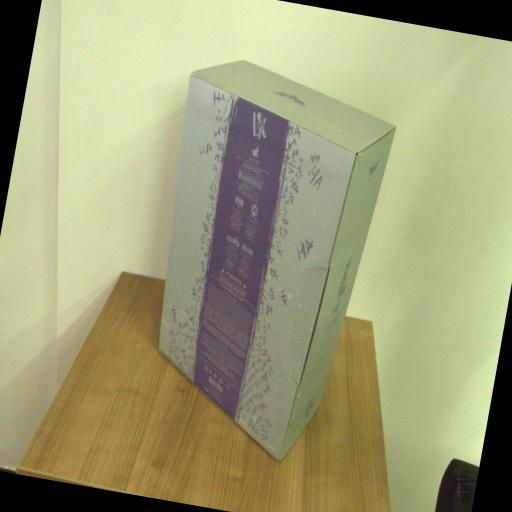Joker: (124, 47, 403, 470)
